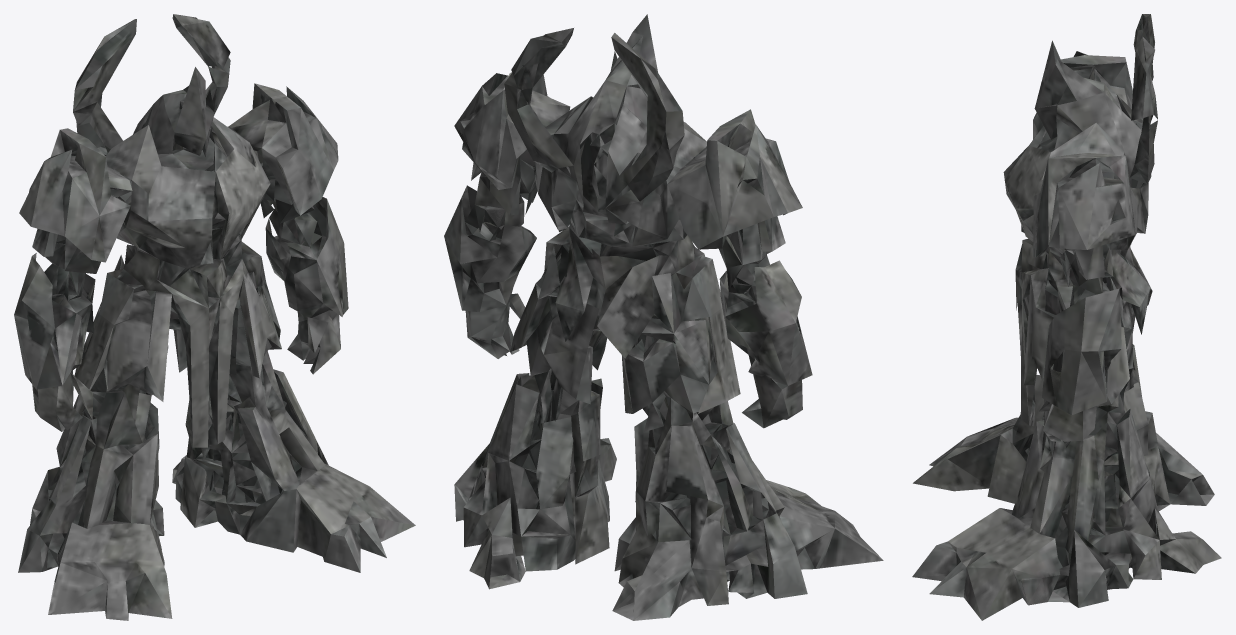
File: monument_sleeping_guard.glb
3 views of the same model, side by side, from view 1: azimuth 30°, elevation 25°; view 2: azimuth 150°, elevation 25°; view 3: azimuth 270°, elevation 25° (orthographic). The views are drawn at different scales.
Size of the model in its own units: 1.47 by 1.9 by 1.05.
Materials: 1 (1 with a texture image).
